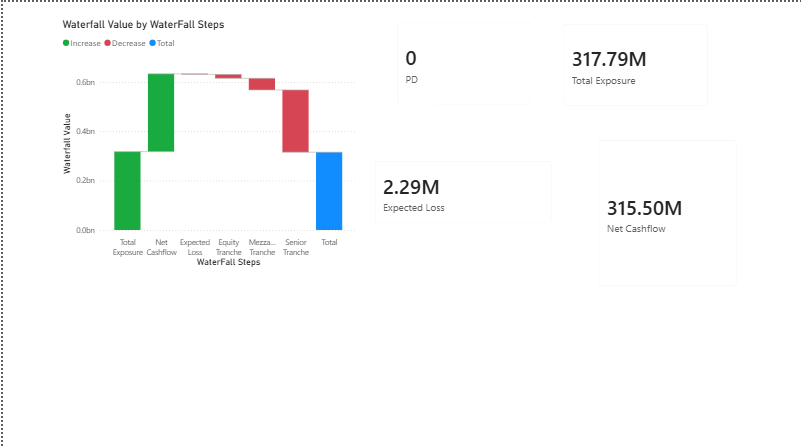

This screenshot's page, from the dashboard's own definition file:
{"tool":"powerbi","page":{"name":"WaterFall Model","canvas":[1280,720],"ordinal":4},"visuals":[{"type":"waterfallChart","fields":{"Y":["auto_loan_securitisation_data.Waterfall Value"],"Category":["Table.WaterFall Steps"]},"box":[89.3,26.9,480.6,403.5],"z":0},{"type":"cardVisual","fields":{"Data":["auto_loan_securitisation_data.PD"]},"box":[613.9,15.9,247,165.1],"z":1000},{"type":"cardVisual","fields":{"Data":["auto_loan_securitisation_data.Total Exposure"]},"box":[880.4,17.1,265.4,165.1],"z":2000},{"type":"cardVisual","fields":{"Data":["auto_loan_securitisation_data.Expected Loss"]},"box":[578.4,237.2,317.9,132.1],"z":3000},{"type":"cardVisual","fields":{"Data":["auto_loan_securitisation_data.Net Cashflow"]},"box":[936.7,204.2,255.6,267.8],"z":4000}]}

Visuals, with their boxes in screenshot pixels (x1, y1, x2, y2), scaled from the page's 1280x720 canvas onto the 801x447 screenshot:
waterfallChart - auto_loan_securitisation_data.Waterfall Value x Table.WaterFall Steps: left=56, top=17, right=357, bottom=267
cardVisual - auto_loan_securitisation_data.PD: left=384, top=10, right=539, bottom=112
cardVisual - auto_loan_securitisation_data.Total Exposure: left=551, top=11, right=717, bottom=113
cardVisual - auto_loan_securitisation_data.Expected Loss: left=362, top=147, right=561, bottom=229
cardVisual - auto_loan_securitisation_data.Net Cashflow: left=586, top=127, right=746, bottom=293
